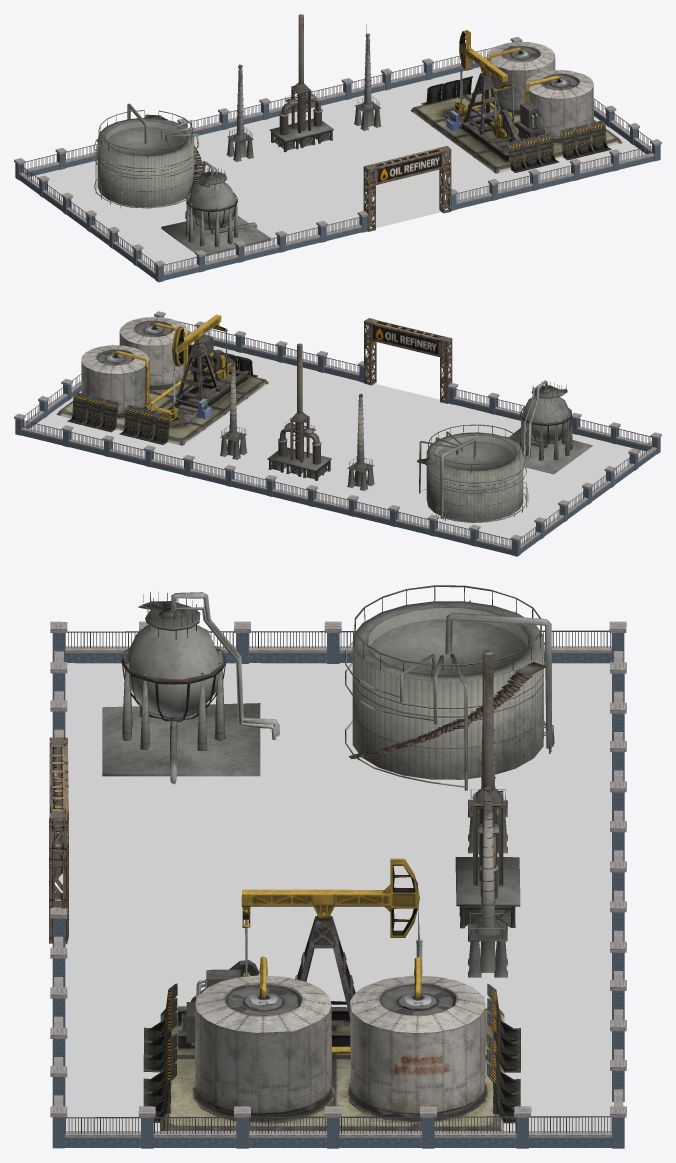
File: oIL rEFINE.fbx
3 renders of one model, top to bottom at view 1: azimuth 30°, elevation 25°; view 2: azimuth 150°, elevation 25°; view 3: azimuth 270°, elevation 25°, orthographic. The views are drawn at different scales.
Parts seen in each view (by area): view 1: Plane, Cube_002_092.004, Plane.001, Cube_002_092.003, Cube_002_092.007, Plane.006, Plane.002, Plane.003, Cube_002_092, Cube_002_092.006, Plane.005, Cube_002_092.008 (+3 smaller); view 2: Plane, Cube_002_092.004, Plane.001, Cube_002_092.003, Plane.006, Cube_002_092.007, Cube_002_092, Cube_002_092.008, Cube_002_092.006, Plane.002, Plane.005, Plane.003 (+3 smaller); view 3: Plane, Cube_002_092.004, Plane.001, Cube_002_092.003, Cube_002_092.007, Plane.004, Plane.005, Cube_002_092.006, Cube_002_092.012, Plane.003, Plane.006, Cube_002_092 (+3 smaller).
Boxes of the visible parts, left/top/right/bottom form: Plane: left=30, top=67, right=646, bottom=271; Cube_002_092.004: left=410, top=30, right=622, bottom=173; Plane.001: left=232, top=138, right=489, bottom=237; Cube_002_092.003: left=94, top=103, right=202, bottom=208; Cube_002_092.007: left=161, top=160, right=271, bottom=256; Plane.006: left=24, top=36, right=522, bottom=169; Plane.002: left=154, top=211, right=367, bottom=282; Plane.003: left=447, top=139, right=661, bottom=210; Cube_002_092: left=363, top=146, right=451, bottom=231; Cube_002_092.006: left=269, top=14, right=333, bottom=152; Plane.005: left=14, top=158, right=155, bottom=279; Cube_002_092.008: left=24, top=98, right=270, bottom=176; Plane: left=30, top=341, right=645, bottom=546; Cube_002_092.004: left=56, top=314, right=268, bottom=445; Plane.001: left=237, top=370, right=501, bottom=474; Cube_002_092.003: left=417, top=424, right=528, bottom=522; Plane.006: left=14, top=413, right=511, bottom=547; Cube_002_092.007: left=504, top=380, right=592, bottom=474; Cube_002_092: left=364, top=318, right=452, bottom=403; Cube_002_092.008: left=265, top=475, right=511, bottom=554; Cube_002_092.006: left=267, top=343, right=331, bottom=480; Plane.002: left=448, top=383, right=661, bottom=454; Plane.005: left=510, top=439, right=656, bottom=556; Plane.003: left=154, top=311, right=368, bottom=382; Plane: left=65, top=663, right=613, bottom=1130; Cube_002_092.004: left=143, top=858, right=520, bottom=1130; Plane.001: left=57, top=810, right=382, bottom=993; Cube_002_092.003: left=345, top=585, right=554, bottom=790; Cube_002_092.007: left=102, top=592, right=279, bottom=784; Plane.004: left=65, top=1106, right=611, bottom=1148; Plane.005: left=65, top=621, right=626, bottom=663; Cube_002_092.006: left=455, top=650, right=520, bottom=928; Cube_002_092.012: left=468, top=786, right=507, bottom=977; Plane.003: left=50, top=907, right=67, bottom=1148; Plane.006: left=610, top=890, right=626, bottom=1148; Cube_002_092: left=49, top=737, right=68, bottom=944.
Bounding box in the file's own units: 3866 × 921 × 1919.
